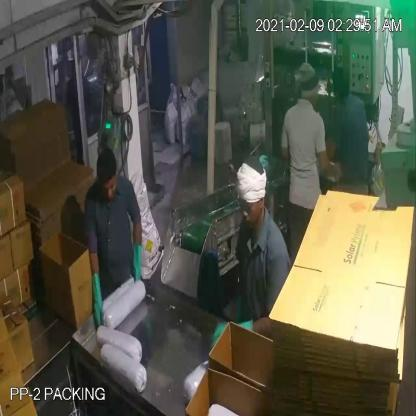glove: (82, 262, 109, 333), (127, 236, 151, 289)
no_glove: (321, 143, 345, 187)
